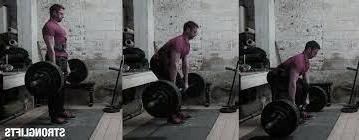Barbell: (263, 123, 270, 131), (29, 81, 36, 89), (146, 102, 152, 108)
